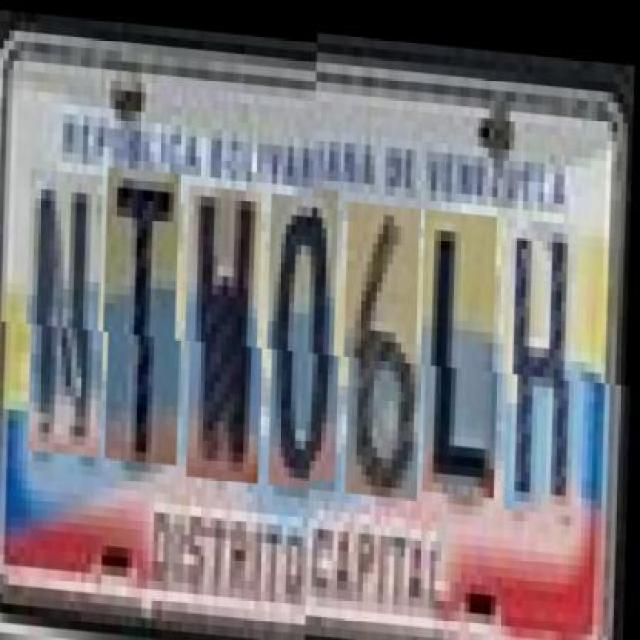6: (347, 204, 425, 501)
h: (506, 216, 585, 513)
l: (425, 210, 503, 498)
n: (31, 169, 109, 456)
o: (270, 188, 344, 484)
t: (107, 165, 185, 462)
w: (190, 180, 267, 478)
